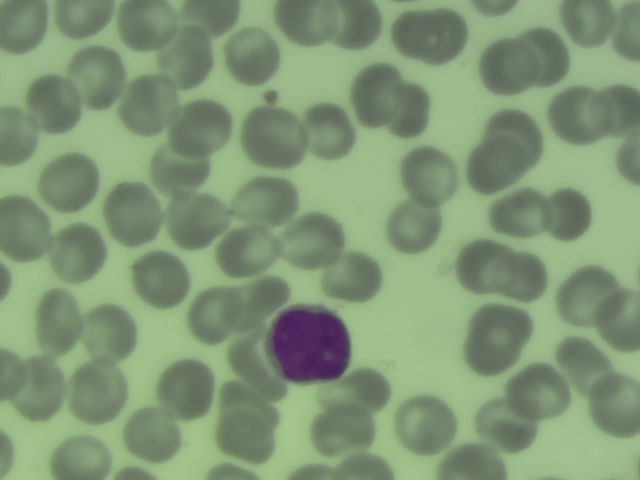RBC: (395, 8, 468, 59), (318, 366, 396, 413), (466, 308, 524, 370), (232, 317, 270, 407), (49, 426, 110, 480), (594, 74, 640, 144), (33, 288, 78, 358), (387, 199, 442, 256), (401, 143, 456, 200), (348, 63, 403, 120), (298, 104, 353, 161), (398, 395, 453, 452), (316, 404, 371, 461), (483, 392, 538, 449), (510, 360, 565, 417), (558, 338, 613, 395), (585, 372, 640, 429), (557, 263, 612, 320), (496, 247, 551, 304), (454, 239, 509, 296), (544, 185, 599, 242), (486, 183, 541, 240), (469, 138, 524, 195), (551, 88, 606, 145), (517, 31, 572, 88), (479, 38, 534, 95), (244, 106, 299, 163), (326, 252, 381, 309), (284, 211, 339, 268), (217, 224, 272, 281), (222, 402, 277, 459), (182, 284, 237, 341), (157, 360, 212, 417), (125, 405, 180, 462), (69, 364, 124, 421), (10, 359, 65, 416), (82, 304, 137, 361), (132, 252, 187, 309), (223, 26, 278, 83), (103, 186, 158, 243), (49, 224, 104, 281), (42, 153, 97, 210), (171, 190, 226, 247), (149, 140, 204, 197), (172, 99, 227, 156), (118, 75, 173, 132), (27, 75, 82, 132), (69, 47, 124, 104), (156, 29, 211, 86), (235, 173, 296, 224), (322, 1, 384, 51), (1, 201, 54, 258), (1, 100, 41, 172), (275, 1, 340, 45), (430, 445, 510, 480), (1, 1, 49, 59), (117, 1, 180, 44), (390, 80, 437, 137), (493, 105, 543, 158), (597, 292, 640, 353), (560, 1, 611, 48), (178, 1, 248, 34), (57, 1, 114, 36), (332, 454, 400, 480), (1, 342, 27, 405), (613, 134, 640, 190)
WBC: (267, 301, 358, 389)
